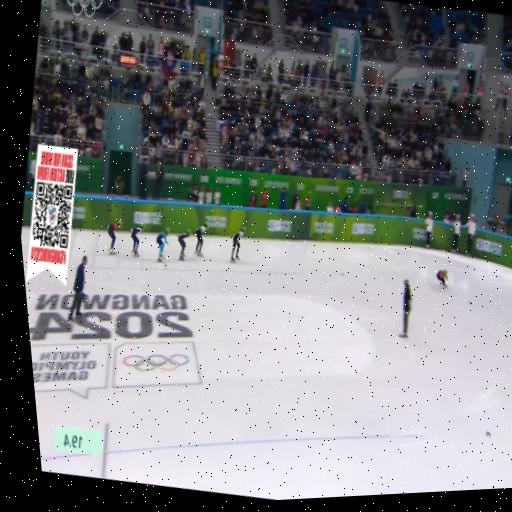Skater: (230, 227, 244, 261), (130, 225, 144, 257), (194, 222, 207, 256), (107, 220, 120, 254), (156, 228, 168, 262), (177, 229, 190, 260), (436, 270, 447, 287)
